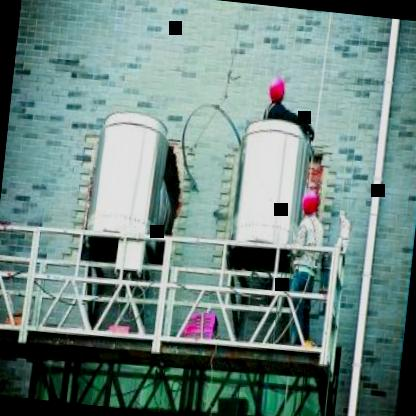helmet: (263, 74, 290, 108), (297, 186, 322, 221)
